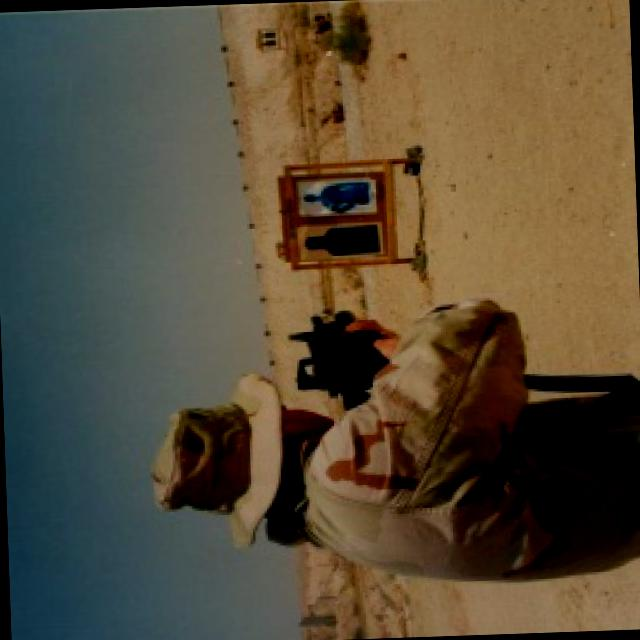long weapon: (292, 286, 390, 414)
